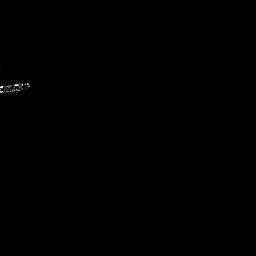ship: (1, 79, 33, 97)
